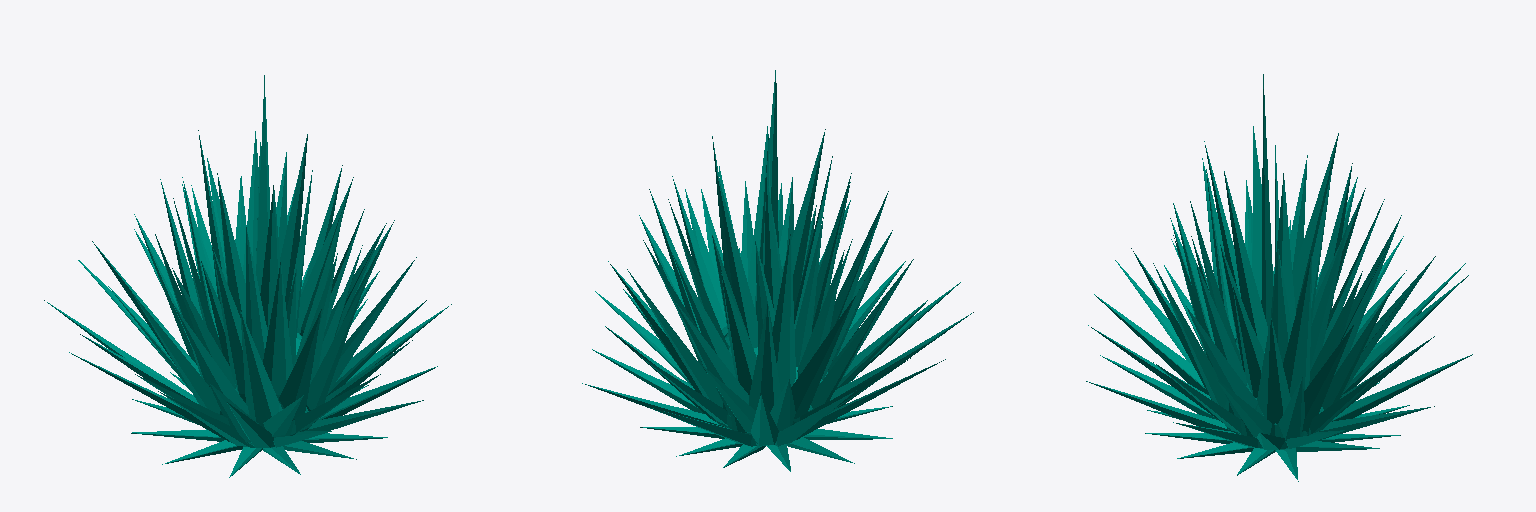
3 renders of one model, left to right at view 1: azimuth 30°, elevation 25°; view 2: azimuth 150°, elevation 25°; view 3: azimuth 270°, elevation 25°, orthographic.
Visible parts, largest first — view 1: group[number redacted], group[number redacted], group[number redacted], group[number redacted], group[number redacted], group[number redacted], group[number redacted], group[number redacted], group[number redacted], group[number redacted], group[number redacted], group[number redacted] (+28 smaller); view 2: group[number redacted], group[number redacted], group[number redacted], group[number redacted], group[number redacted], group[number redacted], group[number redacted], group[number redacted], group[number redacted], group[number redacted], group[number redacted], group[number redacted] (+28 smaller); view 3: group[number redacted], group[number redacted], group[number redacted], group[number redacted], group[number redacted], group[number redacted], group[number redacted], group[number redacted], group[number redacted], group[number redacted], group[number redacted], group[number redacted] (+28 smaller).
Boxes of the visible parts, <box> form: group[number redacted]: <box>263,262,292,402</box>; group[number redacted]: <box>240,310,279,428</box>; group[number redacted]: <box>212,246,245,402</box>; group[number redacted]: <box>306,275,367,410</box>; group[number redacted]: <box>280,134,307,308</box>; group[number redacted]: <box>279,309,321,420</box>; group[number redacted]: <box>132,293,220,413</box>; group[number redacted]: <box>256,75,269,292</box>; group[number redacted]: <box>246,227,267,361</box>; group[number redacted]: <box>217,173,245,321</box>; group[number redacted]: <box>173,304,248,443</box>; group[number redacted]: <box>260,185,279,329</box>; group[number redacted]: <box>772,234,795,391</box>; group[number redacted]: <box>716,170,757,348</box>; group[number redacted]: <box>791,297,854,424</box>; group[number redacted]: <box>749,304,780,411</box>; group[number redacted]: <box>721,272,756,394</box>; group[number redacted]: <box>782,129,825,308</box>; group[number redacted]: <box>627,269,728,428</box>; group[number redacted]: <box>795,217,823,367</box>; group[number redacted]: <box>764,173,782,314</box>; group[number redacted]: <box>676,303,748,416</box>; group[number redacted]: <box>811,297,885,409</box>; group[number redacted]: <box>672,253,735,377</box>; group[number redacted]: <box>1283,254,1311,397</box>; group[number redacted]: <box>1257,317,1290,423</box>; group[number redacted]: <box>1224,171,1267,351</box>; group[number redacted]: <box>1261,74,1272,329</box>; group[number redacted]: <box>1293,133,1338,311</box>; group[number redacted]: <box>1232,283,1264,397</box>; group[number redacted]: <box>1153,263,1228,410</box>; group[number redacted]: <box>1186,306,1257,418</box>; group[number redacted]: <box>1302,325,1353,435</box>; group[number redacted]: <box>1094,294,1208,394</box>; group[number redacted]: <box>1341,275,1468,396</box>; group[number redacted]: <box>1310,221,1348,370</box>.
Size of the model in its own units: 1.58 by 1.52 by 1.45.